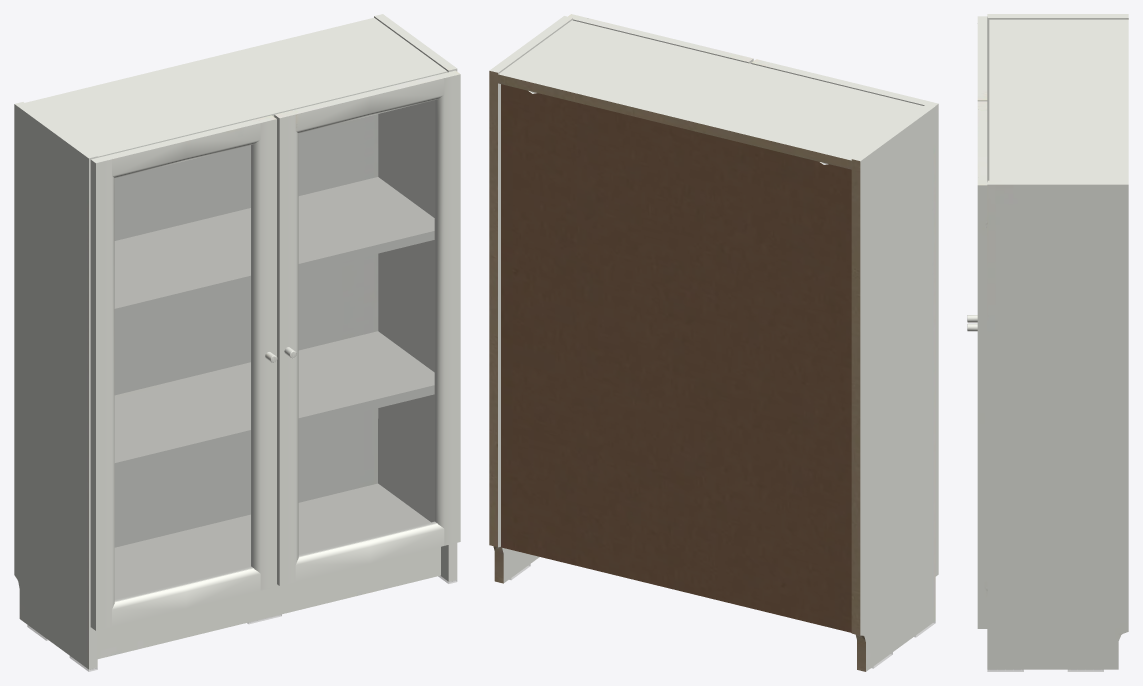
The model's file is billy_oxberg_witryna_09484022.glb.
3 views of the same model, side by side, from view 1: azimuth 30°, elevation 25°; view 2: azimuth 150°, elevation 25°; view 3: azimuth 270°, elevation 25° (orthographic). The views are drawn at different scales.
Parts seen in each view (by area): view 1: billy_oxberg_witryna_09484022; view 2: billy_oxberg_witryna_09484022; view 3: billy_oxberg_witryna_09484022.
Part boxes in pixels (x1,y1,x2,y2): billy_oxberg_witryna_09484022: (14,14,460,671); billy_oxberg_witryna_09484022: (489,14,938,671); billy_oxberg_witryna_09484022: (967,14,1128,671).
Bounding box in the file's own units: 0.8 × 1.06 × 0.32.
Materials: 2 (2 with a texture image).
